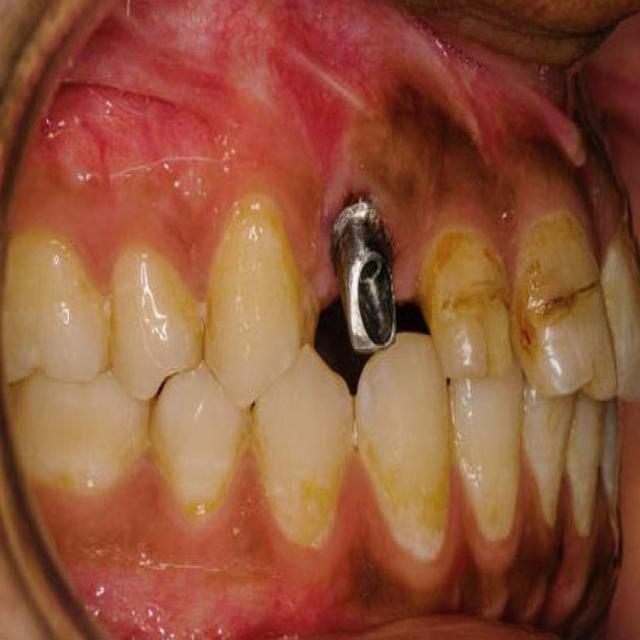caries: (532, 281, 594, 344), (463, 269, 516, 337)
